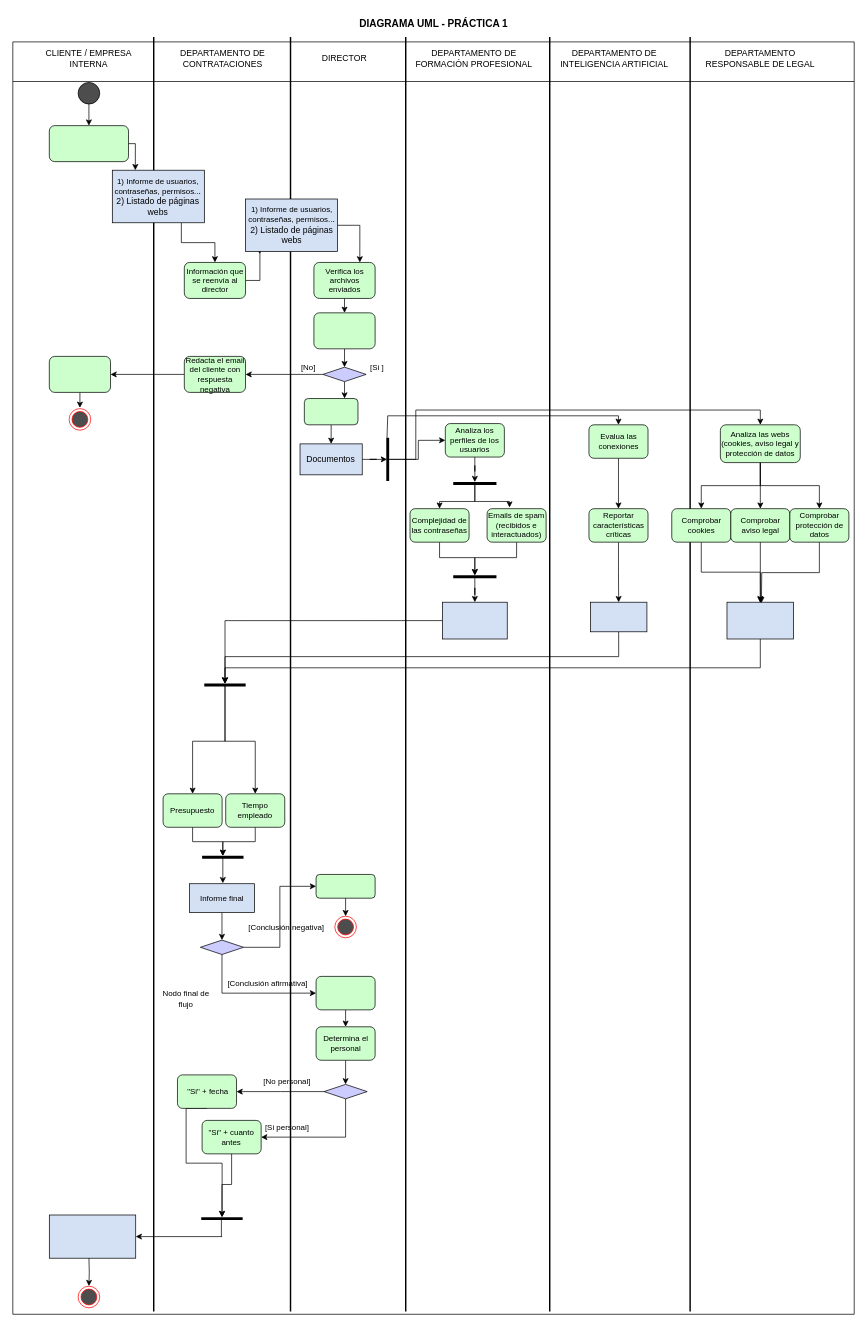
This 867x1327 diagram has some shape labels left out. Here are the shapes that lost their labels. From the top down, the box of each, then its label:
(49, 125, 129, 162): Envía archivos al departamento de contrataciones
(313, 312, 375, 349): Decide si continúa adelante
(49, 356, 111, 392): Recibe respuesta negativa
(304, 398, 358, 425): Envía documentos
(442, 601, 507, 639): Reporte de usuarios críticos
(590, 601, 647, 632): Informe con las características típicas
(726, 601, 794, 639): Informe con los datos de cada página
(315, 874, 375, 898): Responde "No"
(315, 976, 375, 1010): Analiza proyectos en los que trabaja
(49, 1214, 136, 1258): Viabilidad del proyecto, inicio y presupuesto
